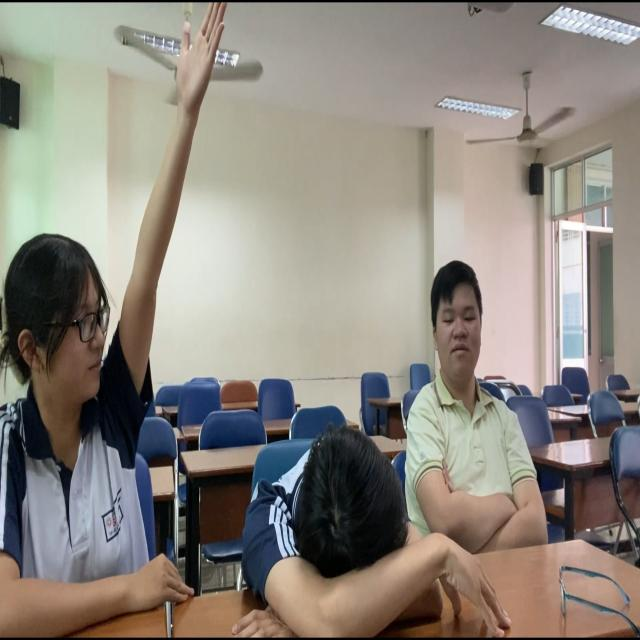raise_hand: (3, 5, 237, 640)
sleep: (236, 405, 523, 632)
